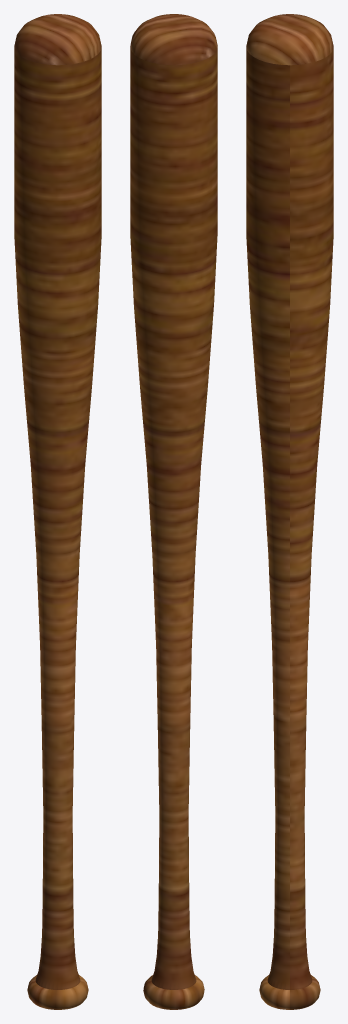
File: batebeisbol.glb
3 views of the same model, side by side, from view 1: azimuth 90°, elevation 25°; view 2: azimuth 150°, elevation 25°; view 3: azimuth 270°, elevation 25° (orthographic).
Parts seen in each view (by area): view 1: Object_2; view 2: Object_2; view 3: Object_2.
Part boxes in pixels (x1=…): Object_2: x1=14, y1=14, x2=101, y2=1009; Object_2: x1=130, y1=14, x2=217, y2=1009; Object_2: x1=246, y1=14, x2=333, y2=1009.
Size of the model in its own units: 0.0666 by 0.8202 by 0.0666.
Materials: 1 (1 with a texture image).
